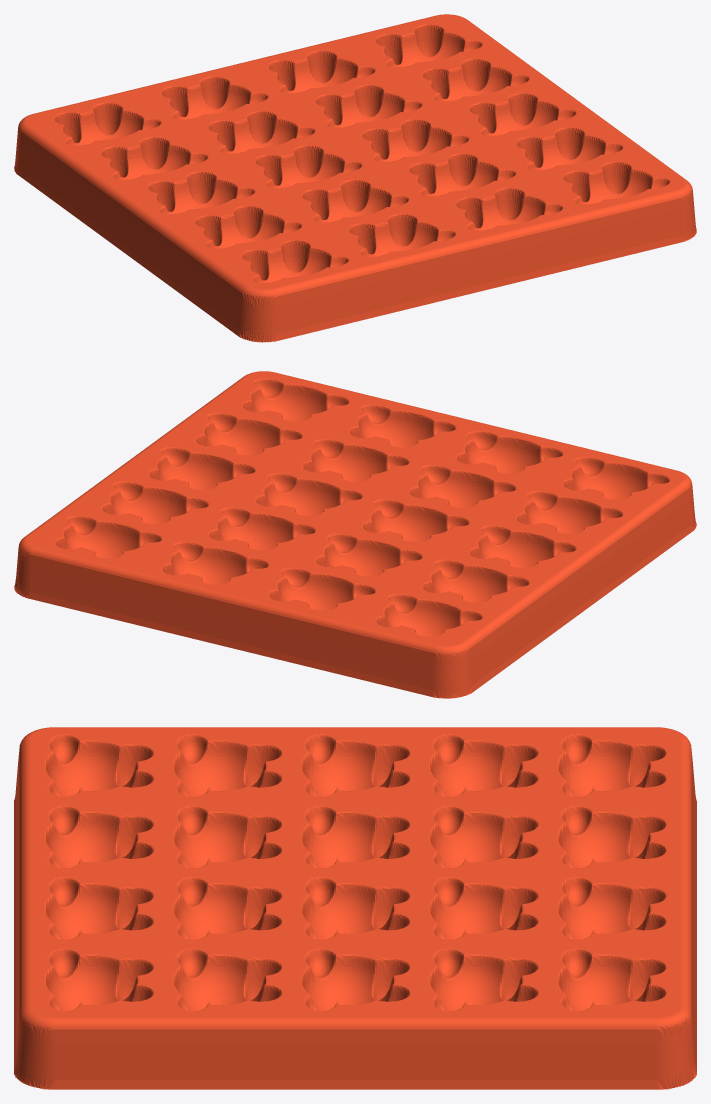
Rendered from mold.glb.
3 views of the same model, one above another, from view 1: azimuth 30°, elevation 25°; view 2: azimuth 150°, elevation 25°; view 3: azimuth 270°, elevation 25° (orthographic). The views are drawn at different scales.
Visible parts, largest first — view 1: geometry_0; view 2: geometry_0; view 3: geometry_0.
Boxes of the visible parts, x1,y1,x2,y2 form: geometry_0: (14,14,696,342); geometry_0: (14,371,696,698); geometry_0: (14,727,696,1089).
Bounding box in the file's own units: 0.1576 × 0.0158 × 0.1499.
